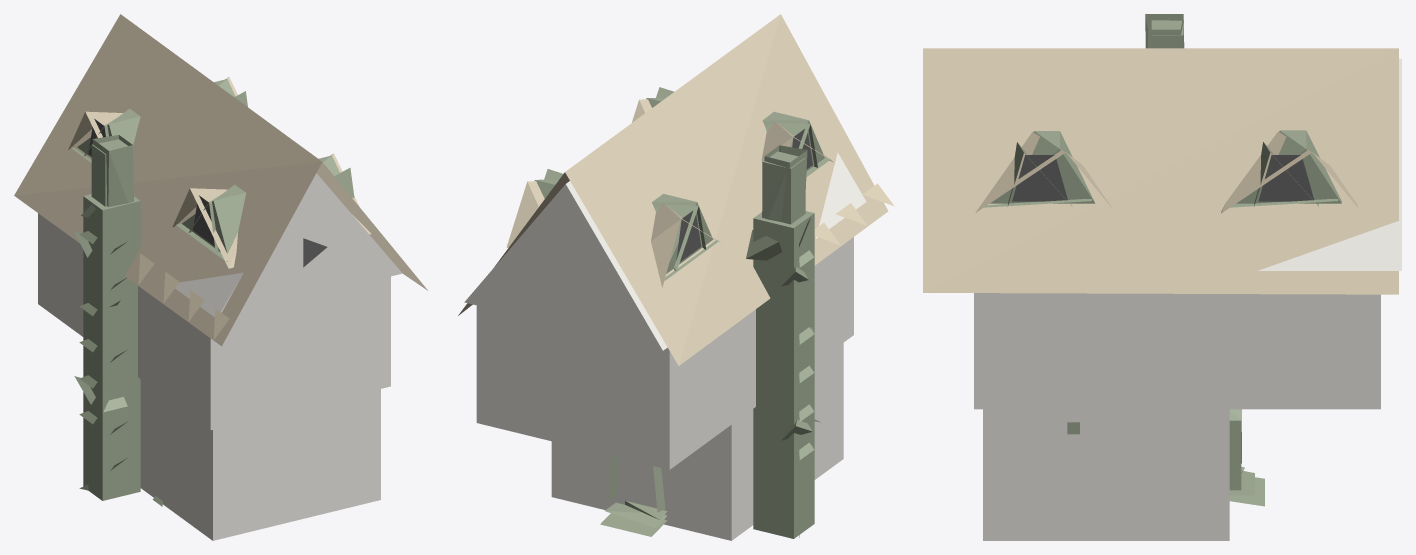
The model's file is hut-b-sZ7dg1uD.glb.
3 views of the same model, side by side, from view 1: azimuth 30°, elevation 25°; view 2: azimuth 150°, elevation 25°; view 3: azimuth 270°, elevation 25° (orthographic). The views are drawn at different scales.
Visible parts, largest first — view 1: House_2_Cylinder.021; view 2: House_2_Cylinder.021; view 3: House_2_Cylinder.021.
Boxes of the visible parts, box(x1,y1,x2,y2) form: House_2_Cylinder.021: box(14, 14, 427, 540); House_2_Cylinder.021: box(458, 14, 893, 540); House_2_Cylinder.021: box(923, 14, 1401, 540).
Size of the model in its own units: 2.12 by 3.16 by 3.08.
